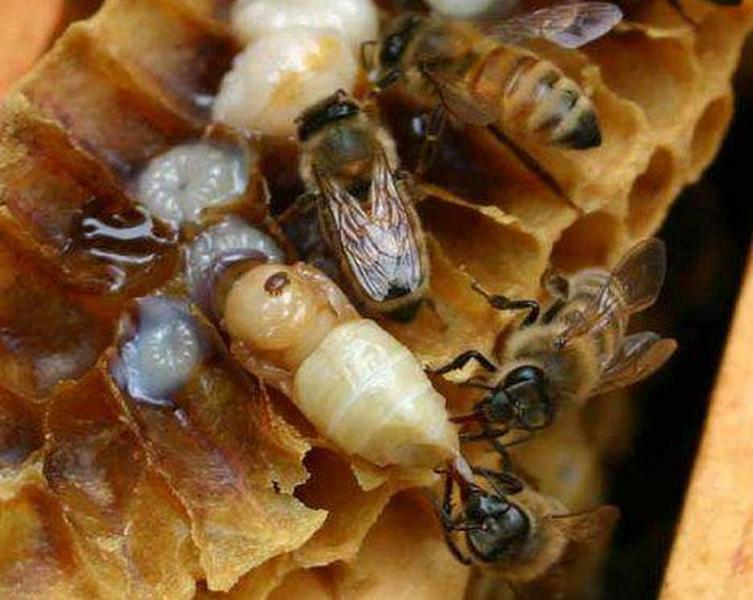Varrao: (262, 269, 293, 297)
